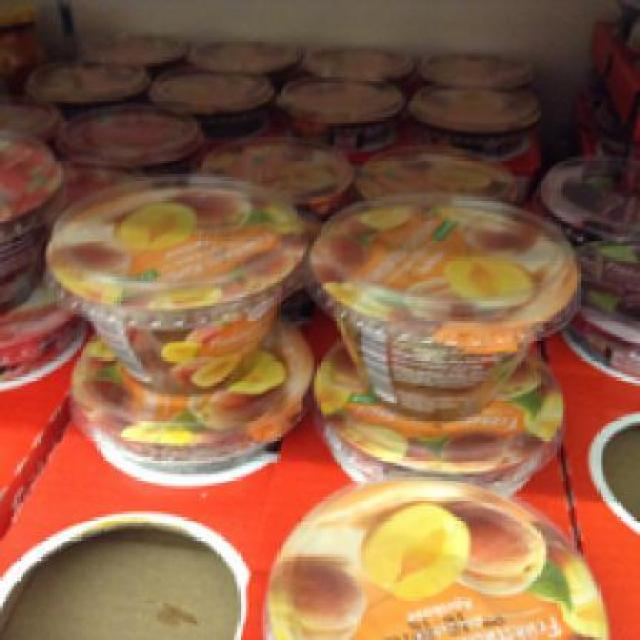Jam: (308, 192, 578, 418), (40, 172, 303, 388), (262, 474, 608, 637), (48, 96, 201, 170), (400, 78, 537, 148), (274, 74, 403, 146), (146, 63, 272, 134), (20, 54, 149, 106)
